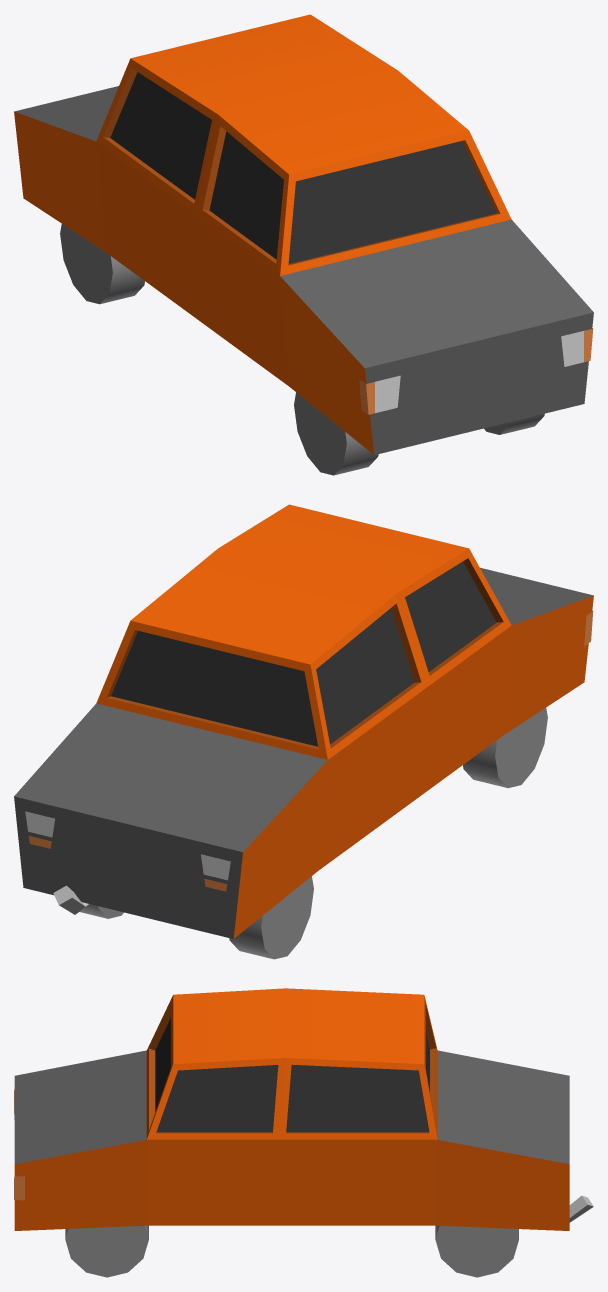
File: car_mixed_01.fbx
The picture shows the model from 3 angles, top to bottom: view 1: azimuth 30°, elevation 25°; view 2: azimuth 150°, elevation 25°; view 3: azimuth 270°, elevation 25°; orthographic projection. The views are drawn at different scales.
Parts seen in each view (by area): view 1: car_mixed_01; view 2: car_mixed_01; view 3: car_mixed_01.
Boxes of the visible parts, x1,y1,x2,y2 form: car_mixed_01: (14, 14, 593, 475); car_mixed_01: (14, 504, 593, 959); car_mixed_01: (14, 988, 593, 1277).
Bounding box in the file's own units: 1.6 × 1.8 × 4.39.
